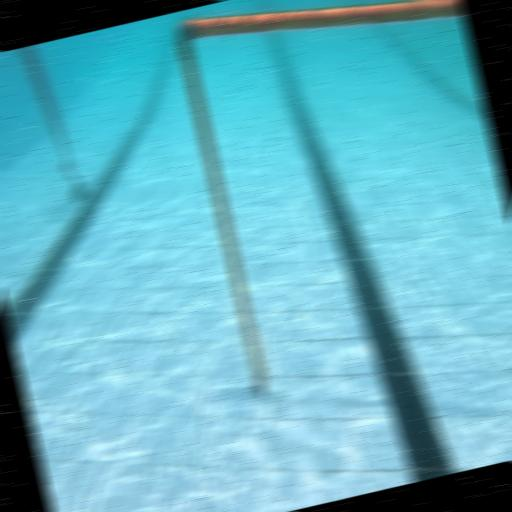gate: (168, 0, 512, 444)
